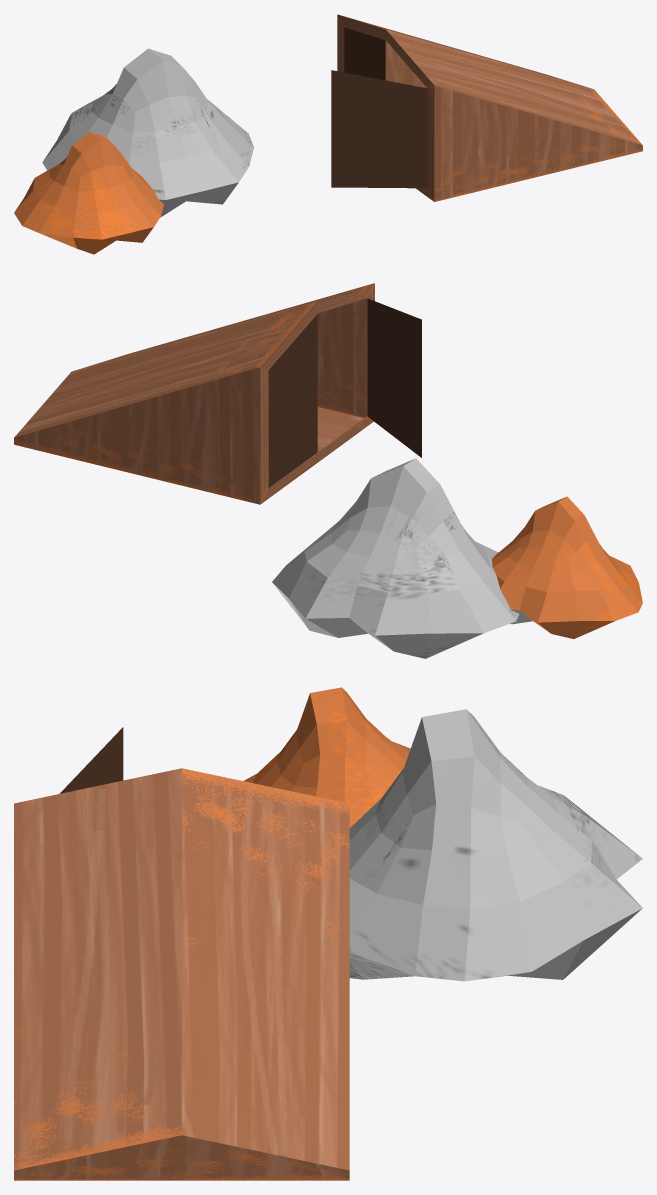
The model's file is koppargruva.glb.
3 renders of one model, top to bottom at view 1: azimuth 30°, elevation 25°; view 2: azimuth 150°, elevation 25°; view 3: azimuth 270°, elevation 25°, orthographic. The views are drawn at different scales.
Parts seen in each view (by area): view 1: Cube; view 2: Cube; view 3: Cube.
Boxes of the visible parts, <box> form: Cube: <box>14,14,642,254</box>; Cube: <box>14,283,642,658</box>; Cube: <box>14,687,642,1180</box>.
Size of the model in its own units: 15.57 by 5.05 by 9.34.
1 material, 1 textured.
